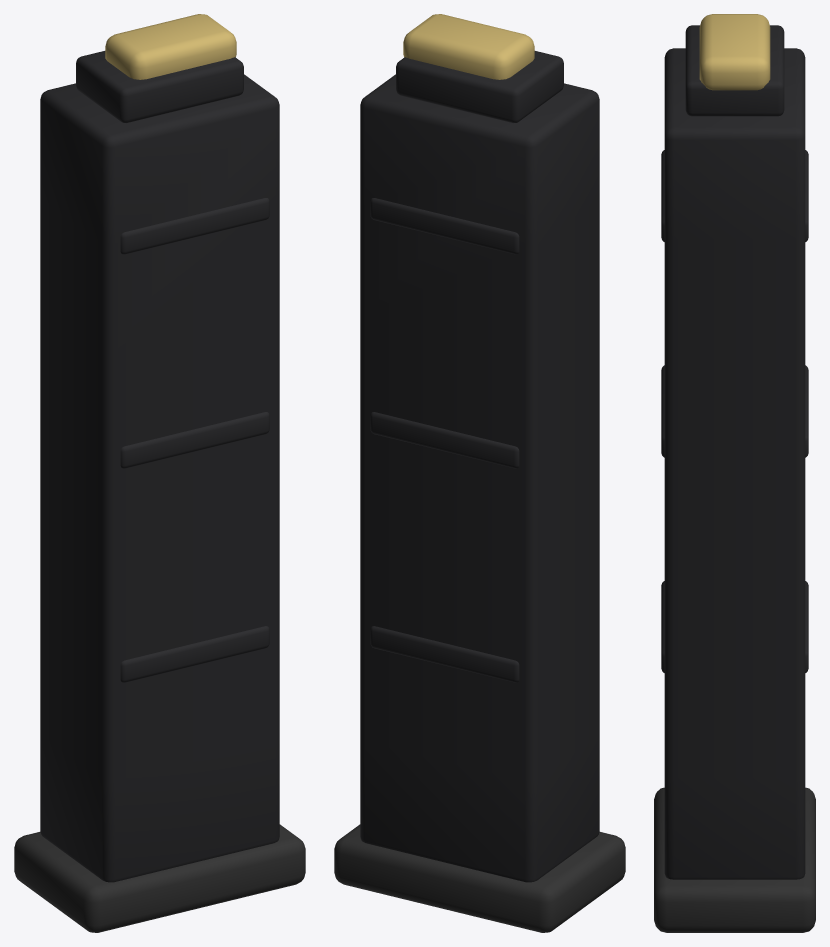
The model's file is SM_FX_MagPistol.glb.
3 renders of one model, left to right at view 1: azimuth 30°, elevation 25°; view 2: azimuth 150°, elevation 25°; view 3: azimuth 270°, elevation 25°, orthographic.
Visible parts, largest first — view 1: SM_FX_MagPistol; view 2: SM_FX_MagPistol; view 3: SM_FX_MagPistol.
Boxes of the visible parts, x1,y1,x2,y2 form: SM_FX_MagPistol: (14, 14, 305, 932); SM_FX_MagPistol: (334, 14, 625, 932); SM_FX_MagPistol: (654, 14, 815, 932).
Size of the model in its own units: 0.04 by 0.147 by 0.0253.
